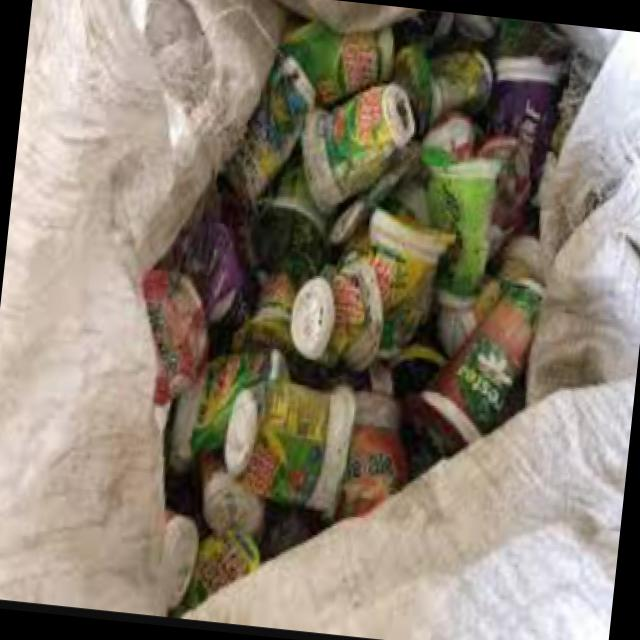GelasPlastik: (111, 0, 582, 640)
